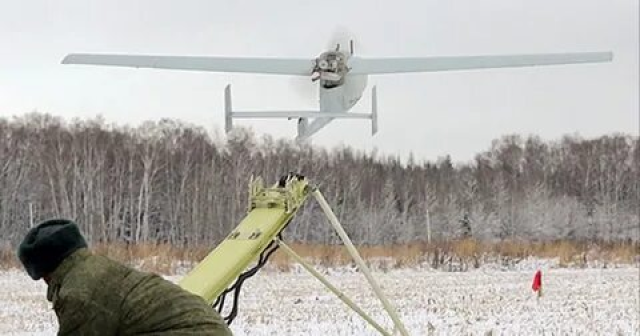military drone: (60, 40, 612, 142)
